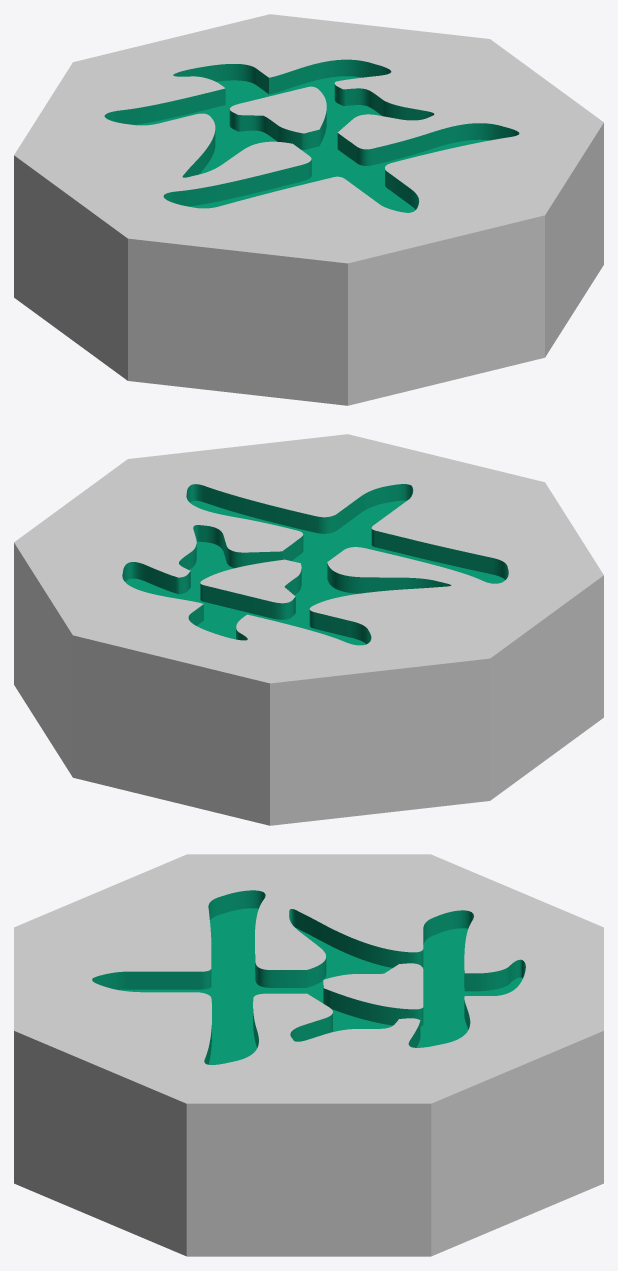
3 views of the same model, one above another, from view 1: azimuth 30°, elevation 25°; view 2: azimuth 150°, elevation 25°; view 3: azimuth 270°, elevation 25° (orthographic). The views are drawn at different scales.
Visible parts, largest first — view 1: 초_쫄; view 2: 초_쫄; view 3: 초_쫄.
Boxes of the visible parts, <box> form: 초_쫄: <box>14,14,603,405</box>; 초_쫄: <box>14,434,603,825</box>; 초_쫄: <box>14,854,603,1256</box>.
Bounding box in the file's own units: 2100 × 600 × 2100.
